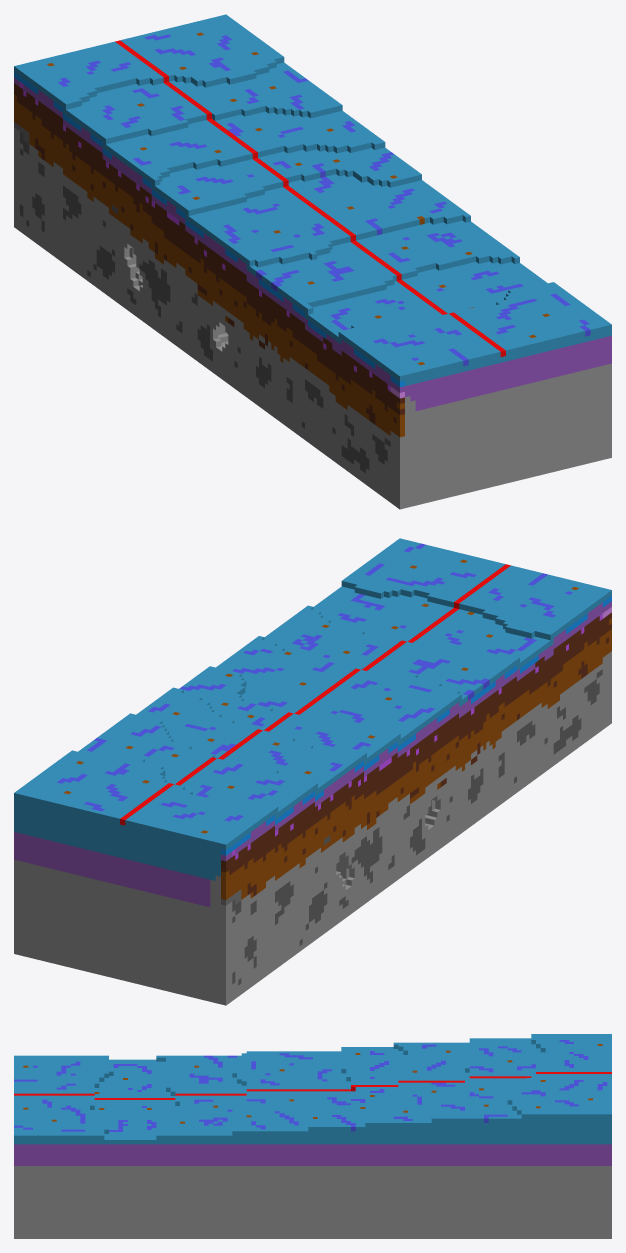
File: Level 1-1.obj
3 renders of one model, top to bottom at view 1: azimuth 30°, elevation 25°; view 2: azimuth 150°, elevation 25°; view 3: azimuth 270°, elevation 25°, orthographic. The views are drawn at different scales.
Parts seen in each view (by area): view 1: default; view 2: default; view 3: default.
Part boxes in pixels (<box>): default: <box>14,14,611,509</box>; default: <box>14,538,611,1005</box>; default: <box>14,1034,611,1238</box>.
Bounding box in the file's own units: 40 × 29 × 126.
